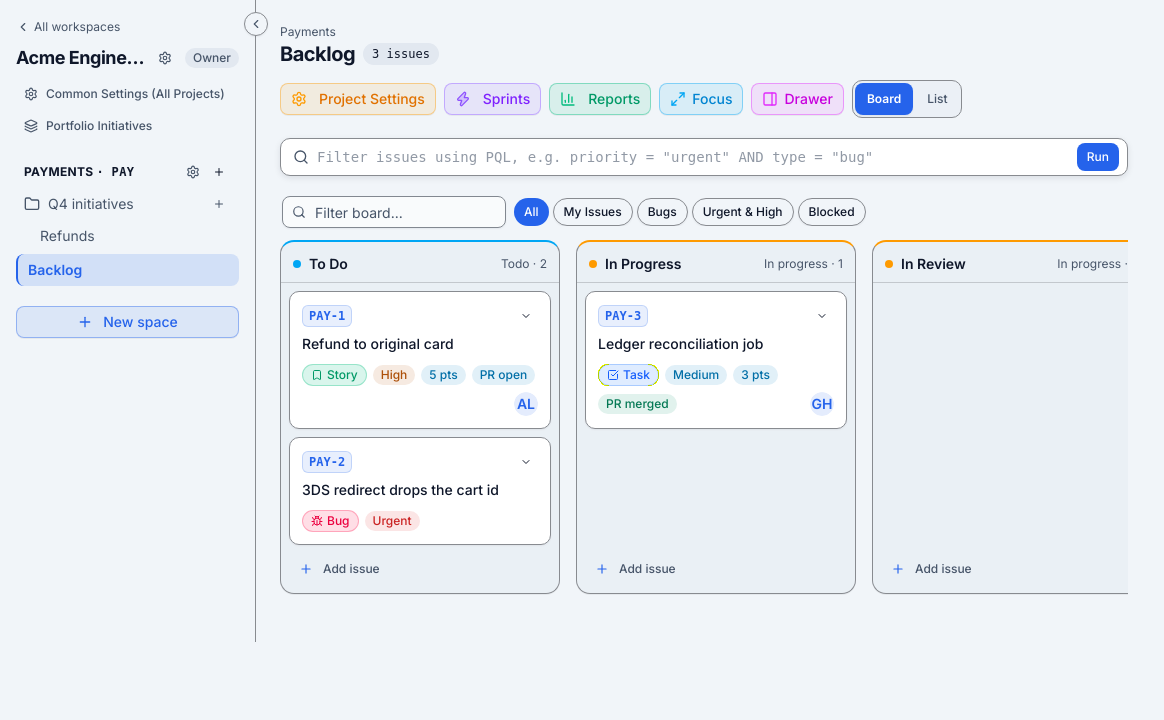
<Workspace> › enables space tree collapse button once a list is selected
Expected: the heading "Backlog" is shown, x1=280 y1=40 x2=355 y2=68
Click the button named "Collapse space tree" at (256, 24), box x1=244 y1=12 x2=268 y2=36
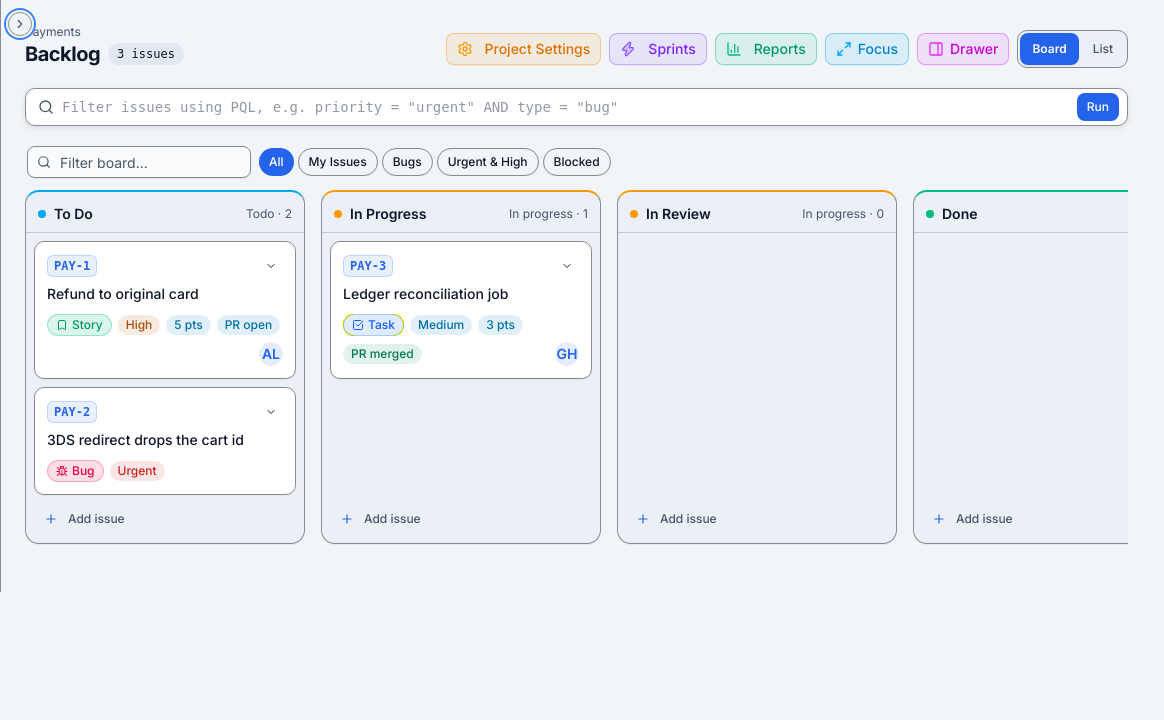
Expected: the button named "Expand space tree" is shown, x1=8 y1=12 x2=32 y2=36
